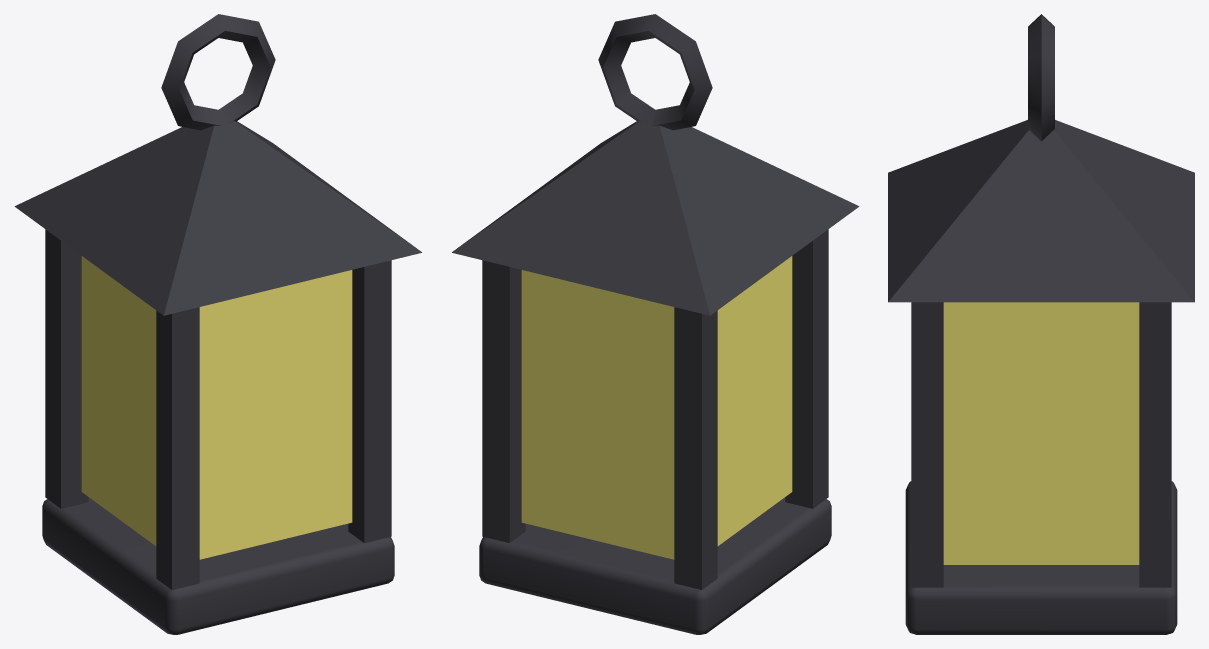
File: Lantern.fbx
3 renders of one model, left to right at view 1: azimuth 30°, elevation 25°; view 2: azimuth 150°, elevation 25°; view 3: azimuth 270°, elevation 25°, orthographic. The views are drawn at different scales.
Visible parts, largest first — view 1: Lantern; view 2: Lantern; view 3: Lantern.
Boxes of the visible parts, x1,y1,x2,y2 form: Lantern: (14, 14, 421, 634); Lantern: (452, 14, 859, 634); Lantern: (888, 14, 1194, 634).
Bounding box in the file's own units: 1.13 × 2.3 × 1.13.
1 material, 1 textured.
